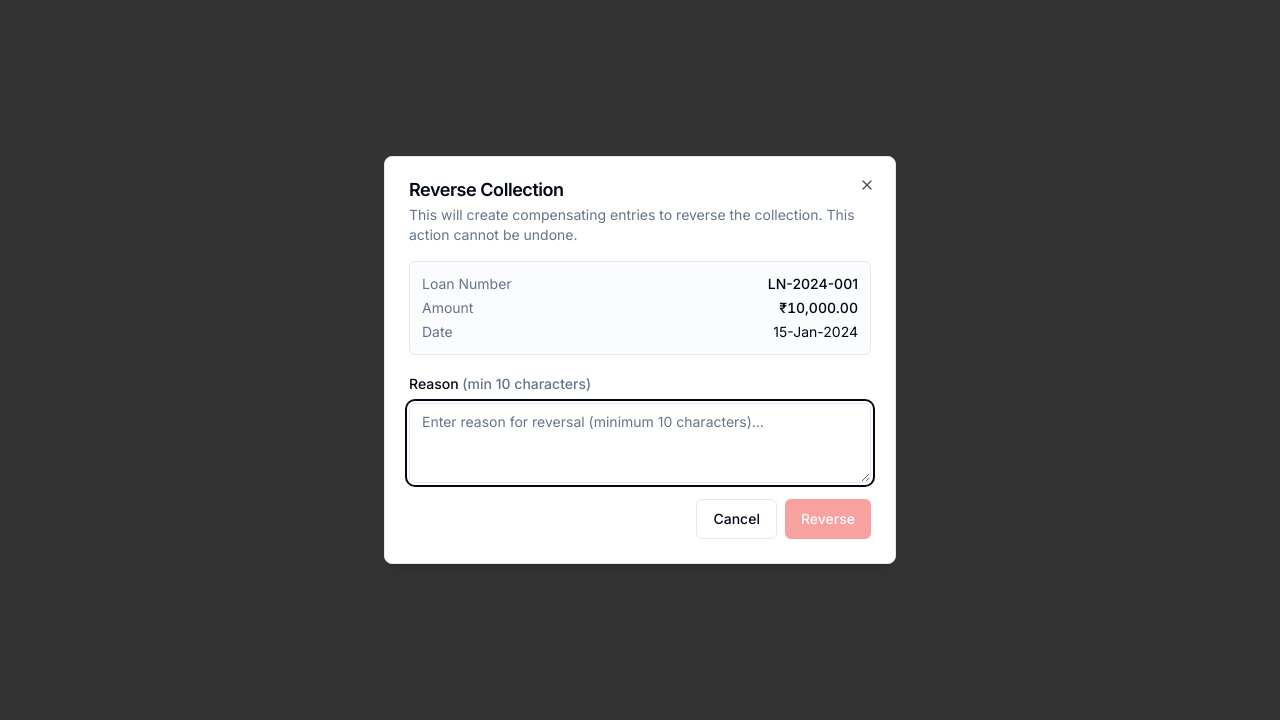
Scenario: ReversalDialog › Error Handling › displays error message on mutation failure
Type "Valid reason text" into the text box. click: (640, 443)
box: [409, 403, 871, 483]
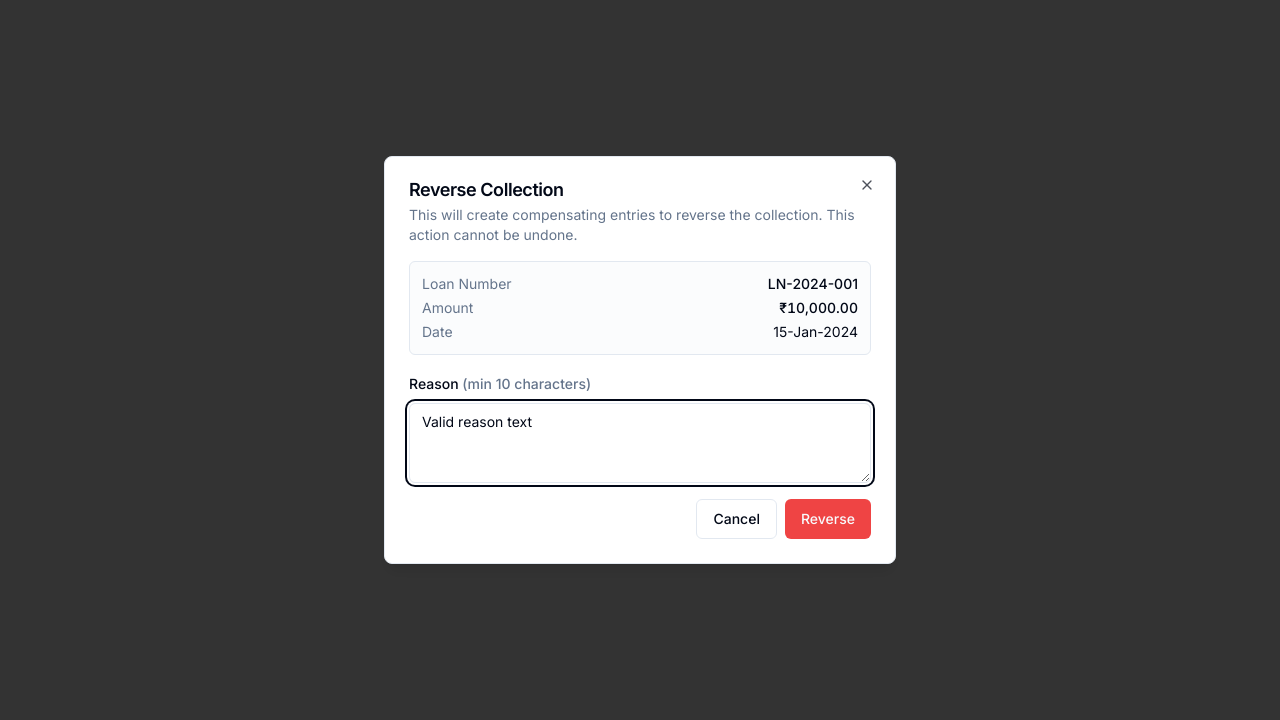
Click the button "Reverse". click: (828, 519)
box: [785, 499, 871, 539]
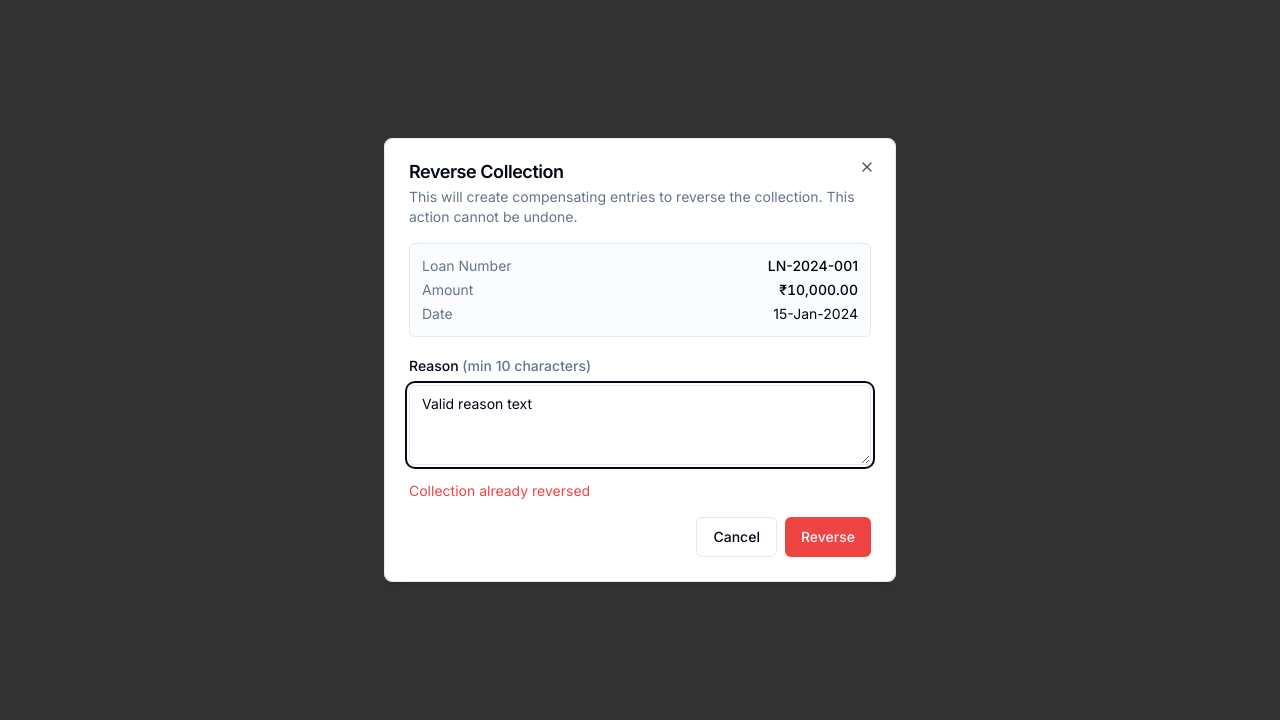
Expected: the text "Collection already reversed" is shown, [409, 482, 590, 499]
